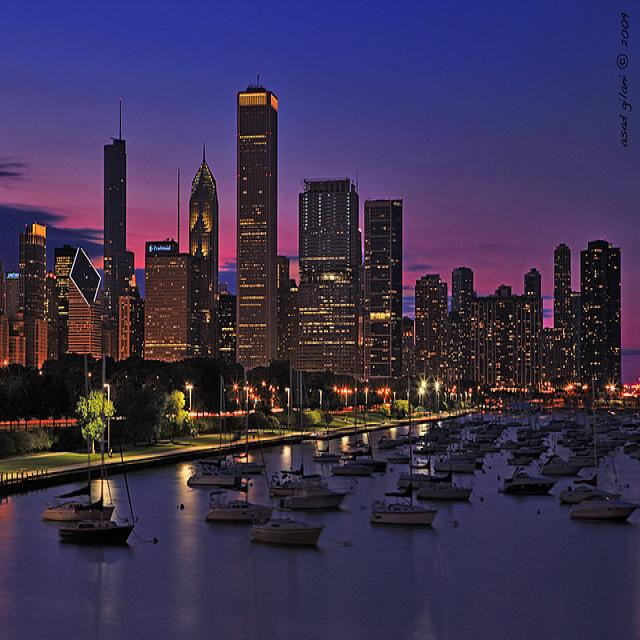Boat: (58, 505, 139, 571), (270, 459, 359, 514), (250, 516, 347, 560), (32, 484, 122, 525), (360, 501, 433, 549), (332, 438, 394, 487), (565, 499, 635, 539), (188, 443, 248, 488), (429, 471, 503, 506), (514, 410, 550, 481), (436, 427, 482, 482), (390, 460, 446, 504), (556, 418, 593, 479), (586, 415, 625, 471), (209, 496, 280, 525), (464, 403, 509, 444), (509, 463, 545, 506), (569, 471, 601, 504)
